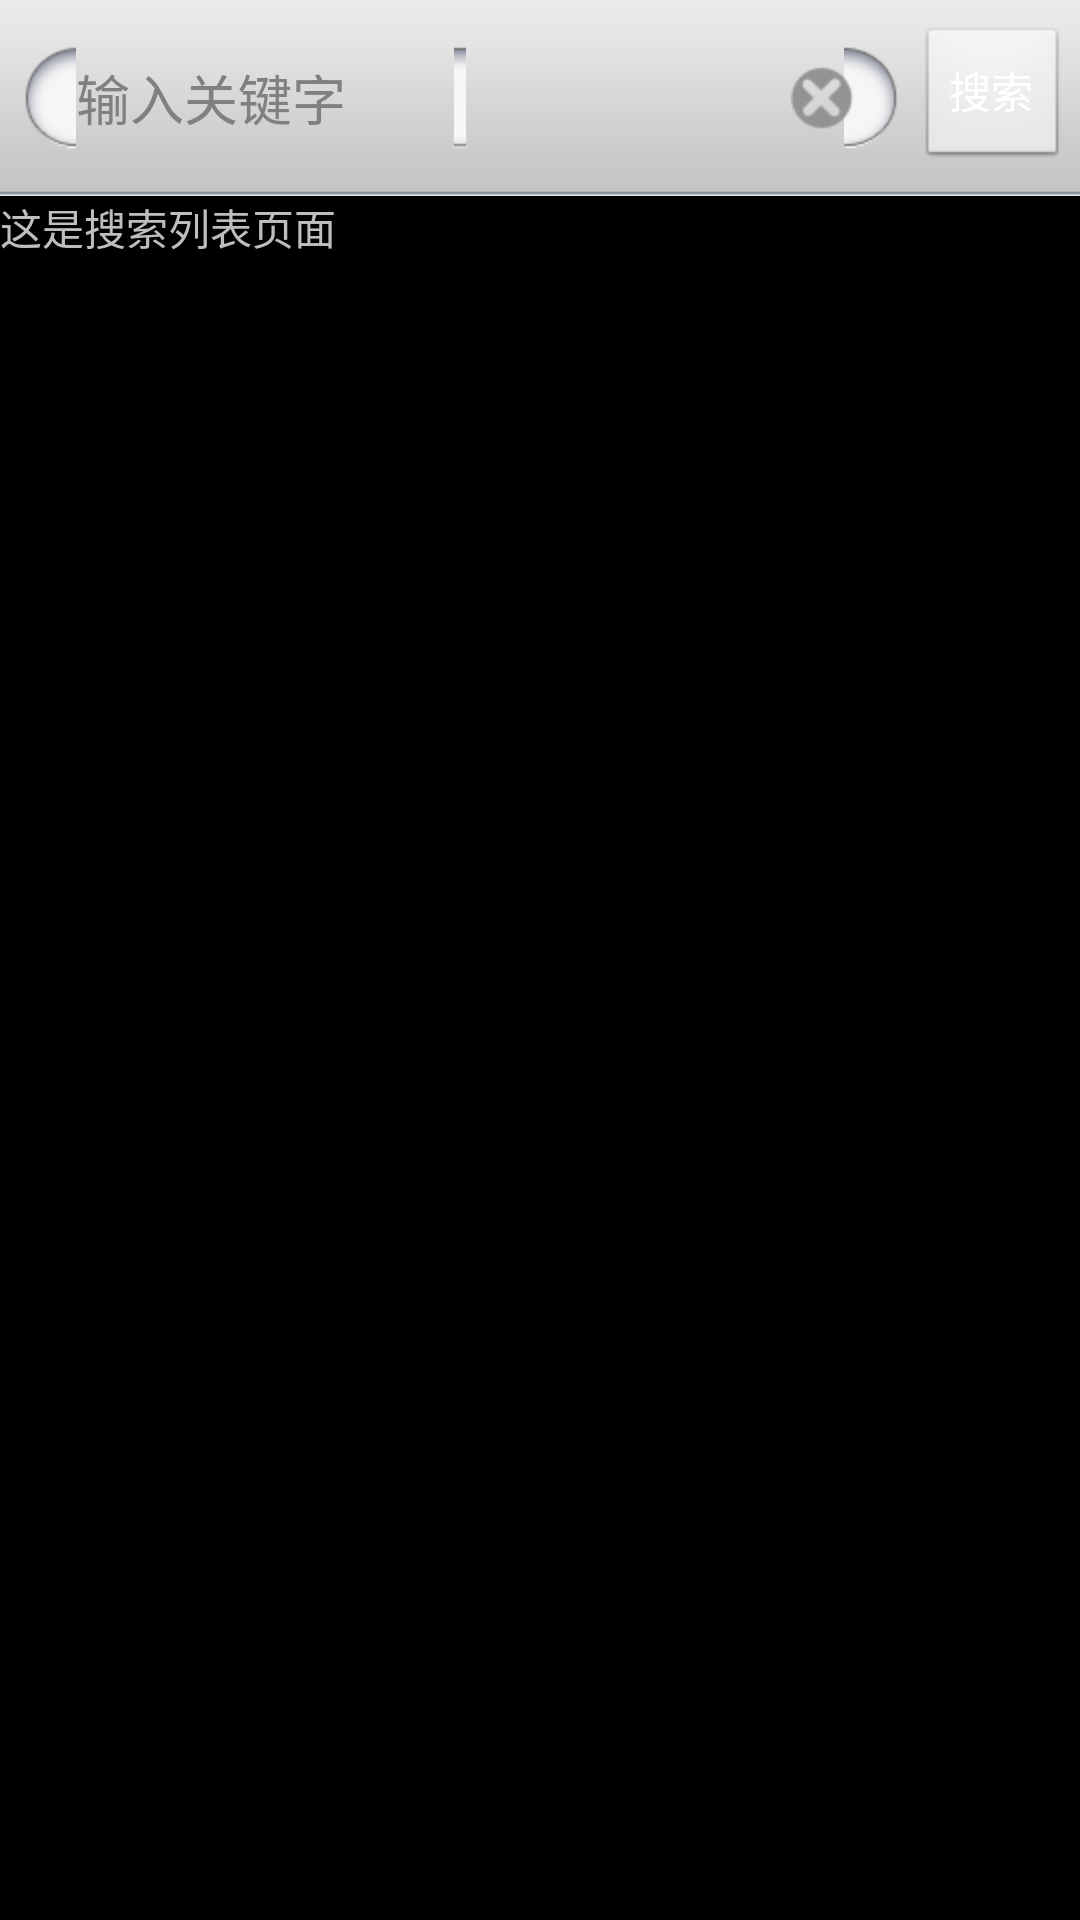

Icons on this 1080×1920 Android screen, each with the point to tap as (x,y):
list search close: (821,98)
